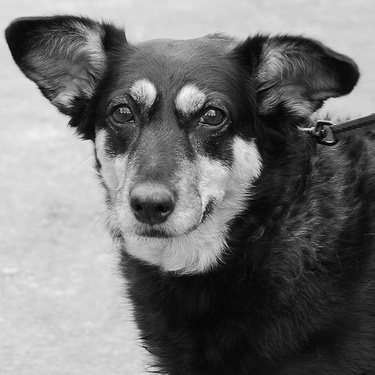dog: (1, 28, 369, 371)
